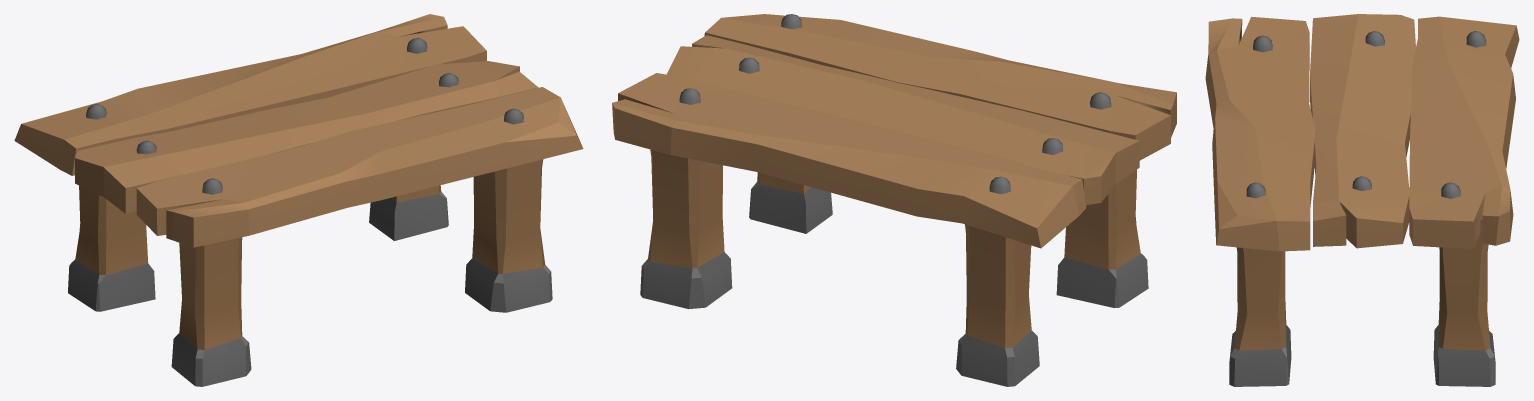
Rendered from Bench_F.fbx.
3 renders of one model, left to right at view 1: azimuth 30°, elevation 25°; view 2: azimuth 150°, elevation 25°; view 3: azimuth 270°, elevation 25°, orthographic. The views are drawn at different scales.
Parts seen in each view (by area): view 1: Bench_F; view 2: Bench_F; view 3: Bench_F.
Boxes of the visible parts, <box> form: Bench_F: <box>14,14,583,386</box>; Bench_F: <box>612,14,1176,386</box>; Bench_F: <box>1205,14,1519,386</box>.
Bounding box in the file's own units: 171 × 71.49 × 107.
